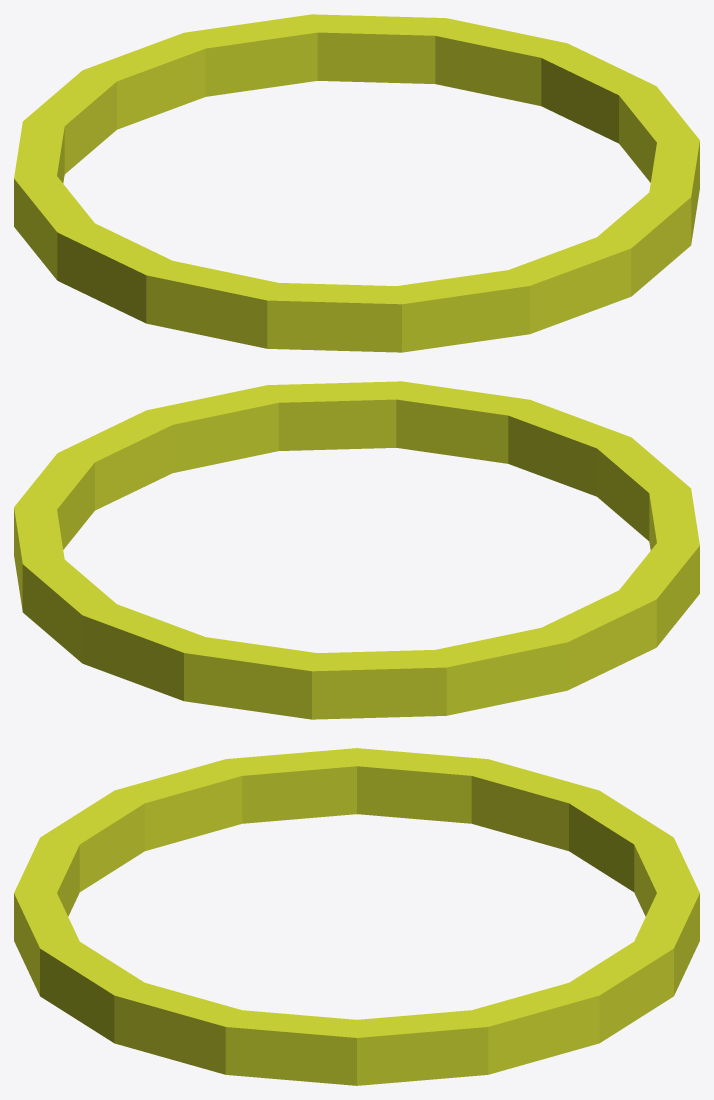
Rendered from ringNext.fbx.
The picture shows the model from 3 angles, top to bottom: view 1: azimuth 30°, elevation 25°; view 2: azimuth 150°, elevation 25°; view 3: azimuth 270°, elevation 25°; orthographic projection.
Visible parts, largest first — view 1: Circle; view 2: Circle; view 3: Circle.
Boxes of the visible parts, left/top/right/bottom form: Circle: left=14, top=14, right=699, bottom=352; Circle: left=14, top=381, right=699, bottom=719; Circle: left=14, top=748, right=699, bottom=1085.
Bounding box in the file's own units: 200 × 15.41 × 200.
